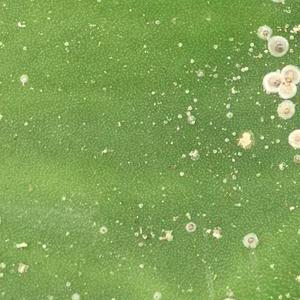Femea: (269, 37, 286, 56), (282, 68, 299, 84), (243, 235, 259, 247), (279, 102, 291, 117), (256, 27, 268, 38), (184, 222, 196, 233)
Linfa: (184, 210, 194, 223), (230, 165, 239, 179), (227, 85, 238, 95), (229, 74, 242, 82), (14, 20, 27, 28), (231, 183, 242, 191), (270, 137, 281, 145), (19, 75, 27, 86), (169, 79, 178, 88), (190, 147, 199, 156), (239, 65, 250, 72), (223, 136, 230, 144), (164, 231, 172, 238), (288, 33, 295, 41), (20, 44, 27, 51), (61, 40, 69, 46), (153, 19, 161, 25), (177, 170, 185, 176), (248, 40, 254, 48), (188, 57, 197, 62), (176, 41, 181, 50), (222, 177, 228, 184), (262, 47, 268, 54), (259, 134, 265, 140), (176, 112, 182, 118), (182, 88, 189, 93), (185, 105, 192, 110), (263, 144, 269, 149), (150, 90, 156, 95), (269, 114, 275, 119), (192, 97, 196, 103)
Macho: (11, 240, 30, 250), (138, 224, 144, 234)
